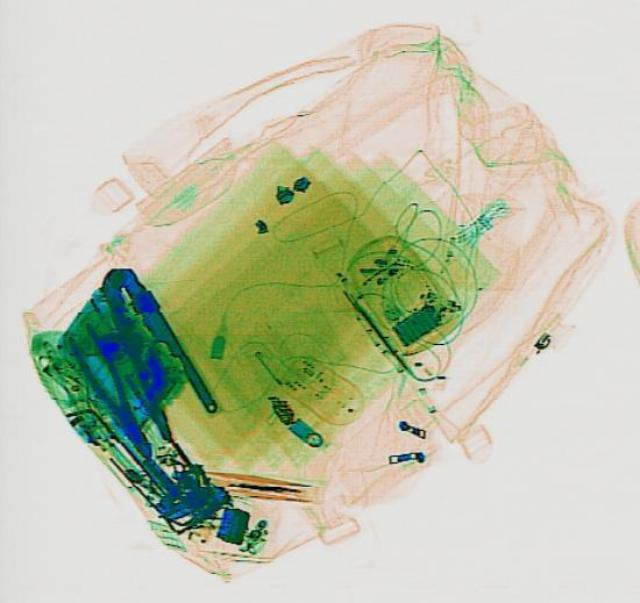Pliers: (76, 257, 224, 440)
